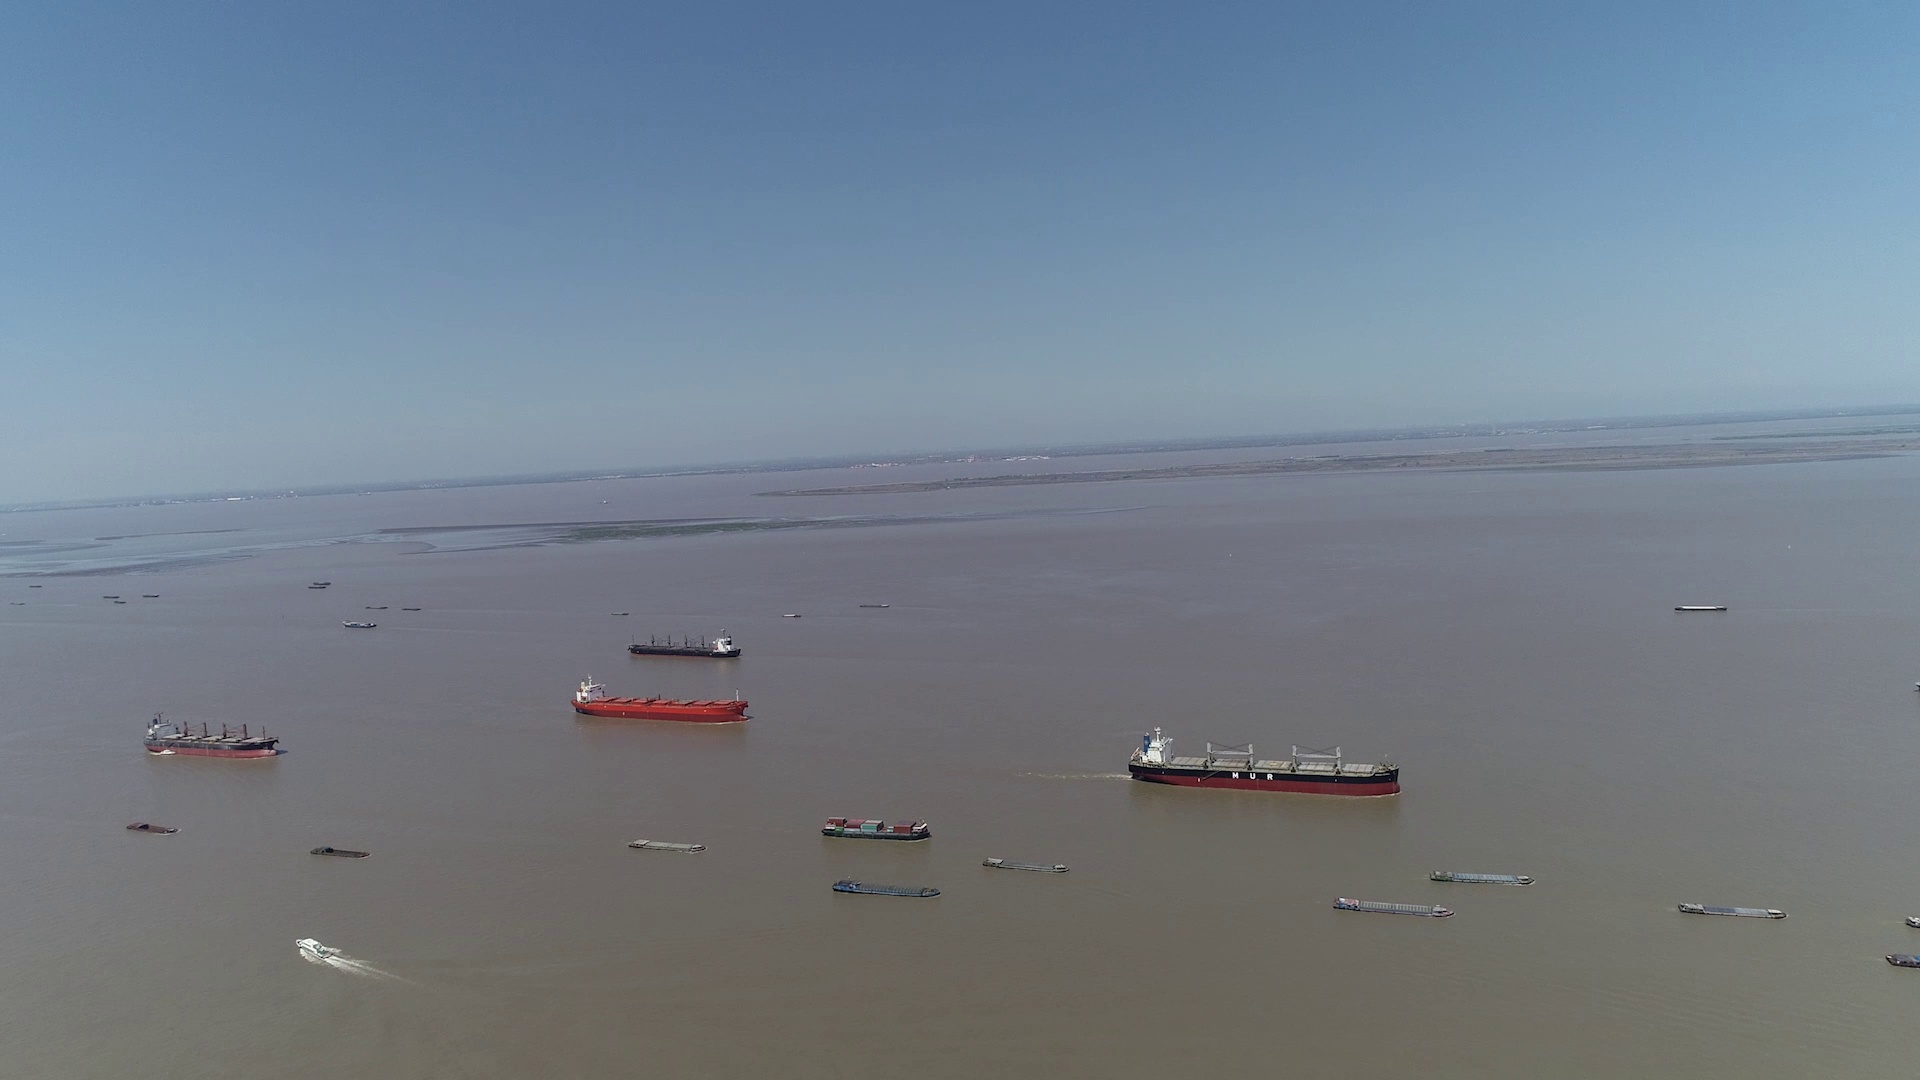ship: (1125, 727, 1404, 798), (572, 676, 746, 723), (146, 712, 277, 758), (626, 630, 742, 658), (820, 815, 931, 841), (1333, 895, 1455, 919), (832, 878, 938, 898), (1677, 901, 1785, 919), (1429, 868, 1531, 886), (982, 855, 1069, 874), (630, 837, 704, 852), (294, 938, 336, 959), (1884, 945, 1917, 971), (310, 847, 369, 858), (124, 822, 177, 835), (342, 618, 378, 629), (1676, 604, 1726, 611)
